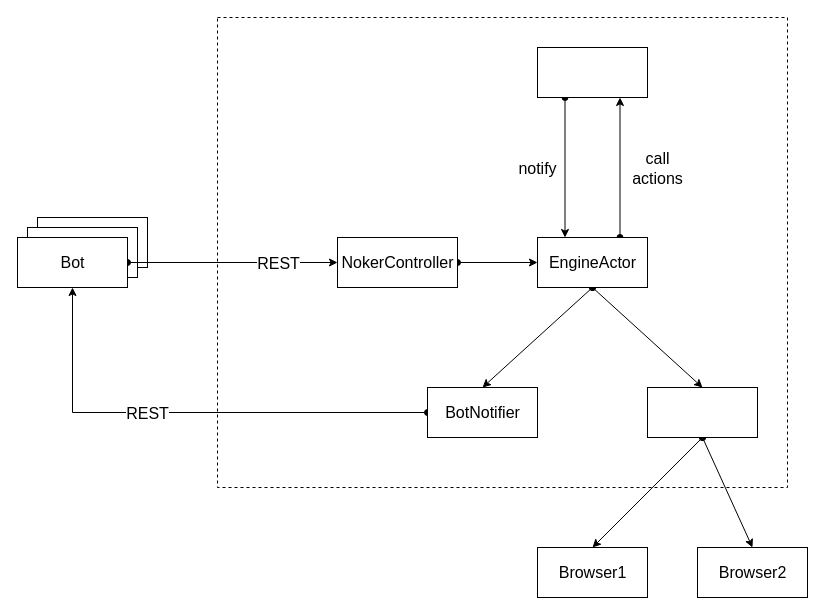
Some shapes in this 825 by 615 pixel diagram are drawn without their labels. Each missing label, with the box of its shape:
Game (Domain): (536, 46, 648, 98)
ViewNotifier: (646, 386, 758, 438)
